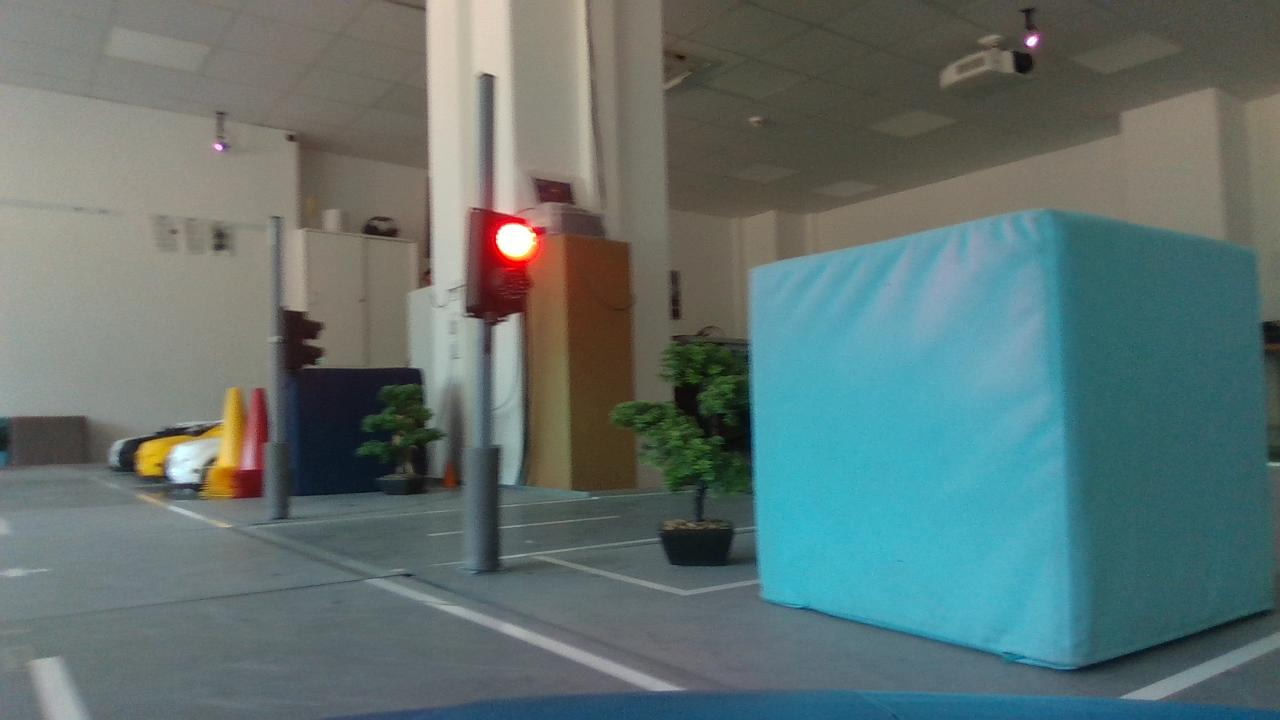traffic_light_red: (448, 200, 545, 327)
